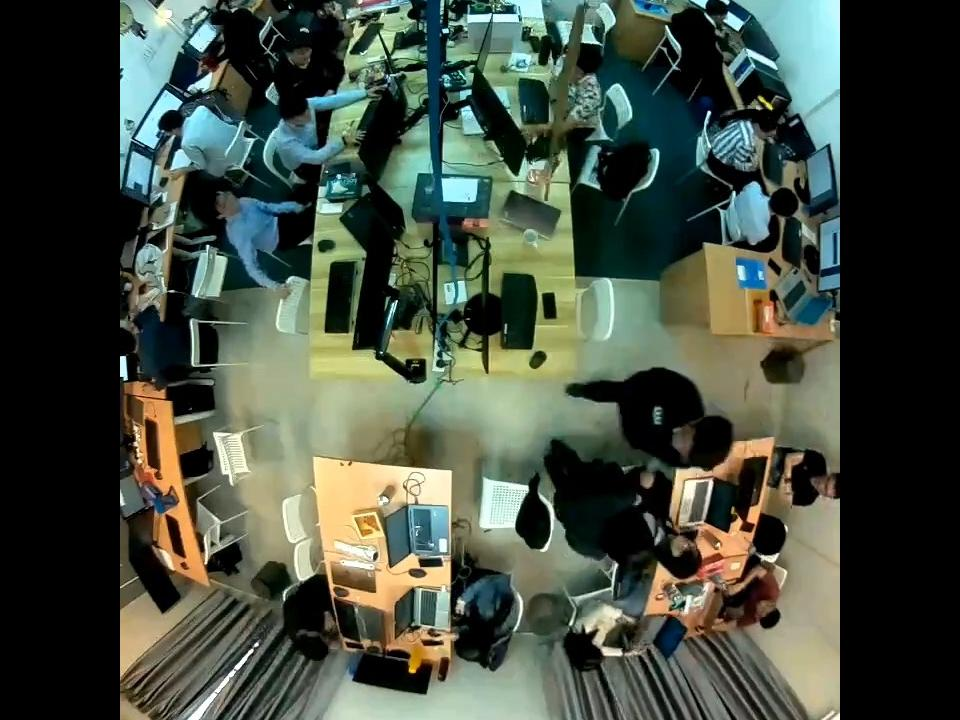name-tag: (649, 403, 669, 425)
